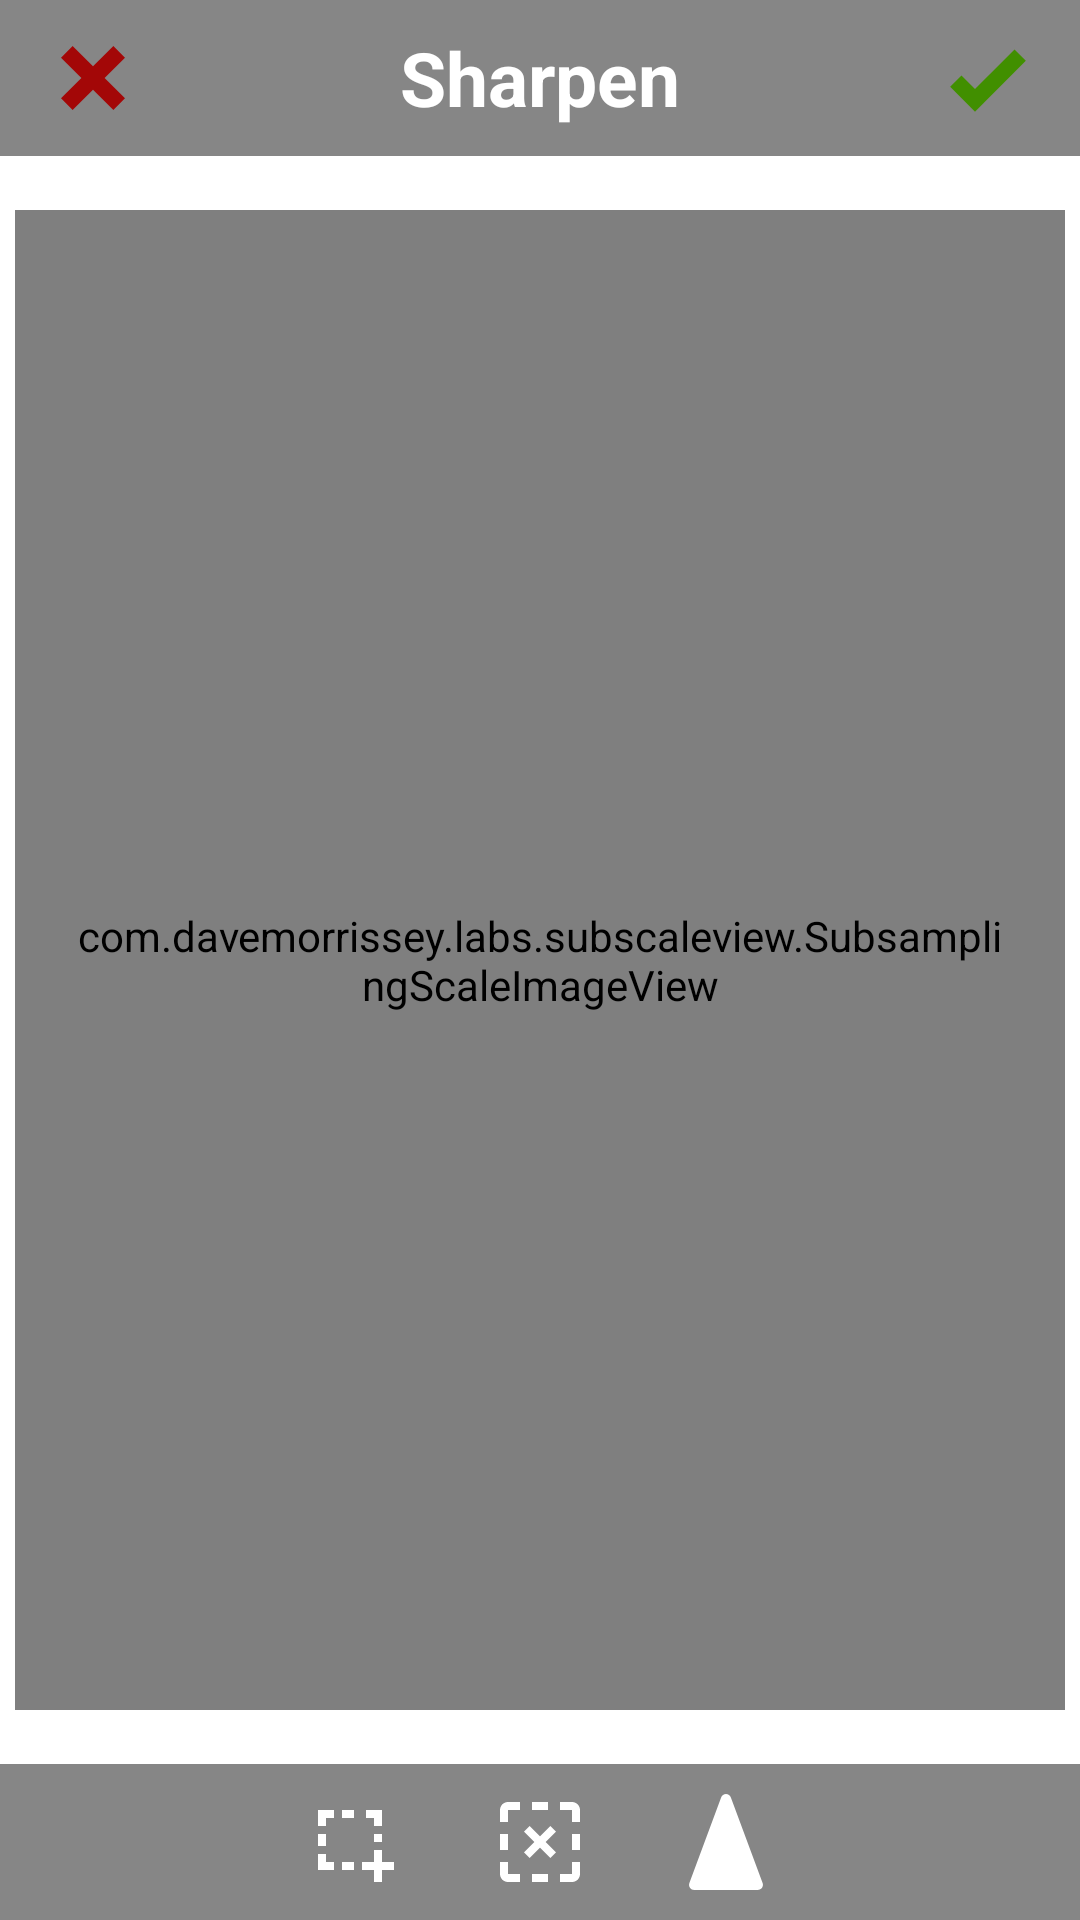

Locate icon controls on the screen. Image size 1080 x 1920, boxes as (x1, y1, x2, y2).
check: (950, 49, 1026, 112)
close thick: (61, 46, 125, 110)
selection drag: (318, 1810, 394, 1882)
selection remove: (500, 1802, 580, 1882)
sharpen: (689, 1794, 763, 1890)
